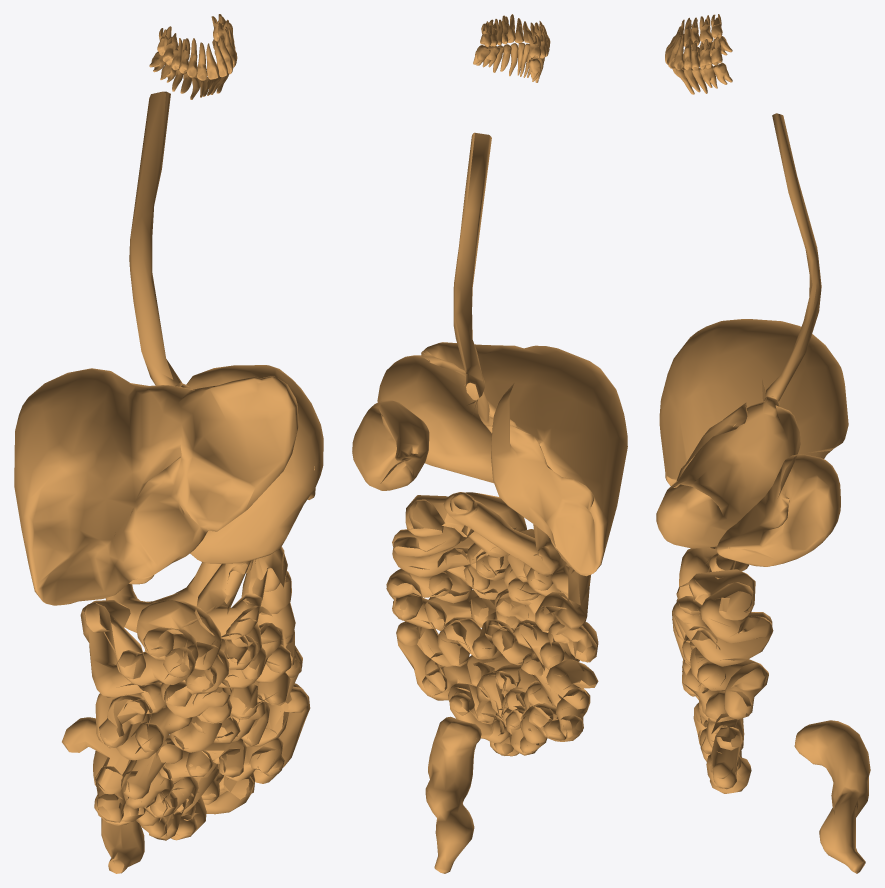
The model's file is digestivo.glb.
3 renders of one model, left to right at view 1: azimuth 30°, elevation 25°; view 2: azimuth 150°, elevation 25°; view 3: azimuth 270°, elevation 25°, orthographic. The views are drawn at different scales.
Parts seen in each view (by area): view 1: intestinodelgado, figado, estomago, esofago, dentes, intestinogrosso; view 2: intestinodelgado, figado, estomago, intestinogrosso, baco, esofago, dentes; view 3: figado, intestinodelgado, estomago, baco, intestinogrosso, esofago, dentes.
Boxes of the visible parts, x1,y1,x2,y2 form: intestinodelgado: [62, 546, 310, 840]; figado: [14, 368, 298, 605]; estomago: [181, 365, 323, 563]; esofago: [129, 91, 182, 386]; dentes: [149, 14, 237, 99]; intestinogrosso: [93, 751, 144, 873]; intestinodelgado: [386, 492, 598, 756]; figado: [421, 342, 627, 576]; estomago: [377, 355, 493, 483]; intestinogrosso: [425, 716, 481, 873]; baco: [352, 399, 429, 490]; esofago: [453, 132, 491, 400]; dentes: [473, 14, 550, 82]; figado: [659, 319, 848, 487]; intestinodelgado: [672, 546, 773, 793]; estomago: [656, 396, 800, 548]; baco: [716, 454, 840, 566]; intestinogrosso: [794, 720, 870, 873]; esofago: [765, 113, 821, 401]; dentes: [665, 14, 732, 94].
Size of the model in its own units: 2.26 by 7.14 by 1.64.
